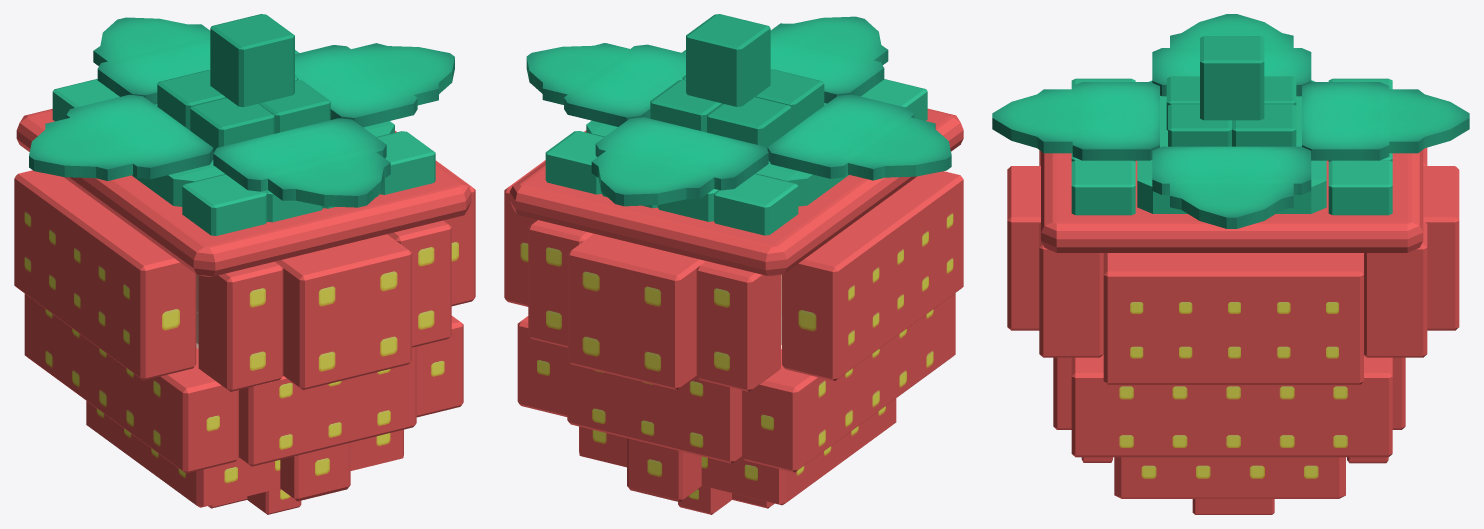
Rendered from level_5.fbx.
3 views of the same model, side by side, from view 1: azimuth 30°, elevation 25°; view 2: azimuth 150°, elevation 25°; view 3: azimuth 270°, elevation 25° (orthographic).
Parts seen in each view (by area): view 1: Cube.033, Cube.022, Cube.023, Cube.019, Cube.040, Cube.035, Cube.028, Cube.021, Cube.034, Cube.026, Cube.031, Cube.092 (+13 smaller); view 2: Cube.033, Cube.030, Cube.023, Cube.019, Cube.020, Cube.035, Cube.031, Cube.032, Cube.034, Cube.028, Cube.026, Cube.092 (+13 smaller); view 3: Cube.025, Cube.047, Cube.023, Cube.034, Cube.028, Cube.031, Cube.026, Cube.024, Cube.029, Cube.030, Cube.035, Cube.092 (+11 smaller).
Part boxes in pixels (box(x1,y1,x2,y2)): Cube.033: box(14, 170, 196, 380); Cube.022: box(275, 234, 411, 389); Cube.023: box(16, 109, 471, 276); Cube.019: box(24, 294, 238, 473); Cube.040: box(239, 346, 416, 466); Cube.035: box(29, 94, 213, 180); Cube.028: box(213, 118, 390, 207); Cube.021: box(198, 261, 283, 391); Cube.034: box(295, 43, 454, 127); Cube.026: box(86, 401, 403, 507); Cube.031: box(93, 17, 210, 104); Cube.092: box(210, 14, 294, 106); Cube.033: box(782, 171, 963, 381); Cube.030: box(568, 233, 705, 389); Cube.023: box(509, 108, 963, 276); Cube.019: box(742, 293, 955, 472); Cube.020: box(567, 347, 741, 463); Cube.035: box(767, 94, 951, 180); Cube.031: box(591, 117, 768, 206); Cube.032: box(696, 261, 780, 391); Cube.034: box(526, 43, 685, 126); Cube.028: box(770, 16, 888, 103); Cube.026: box(579, 398, 896, 505); Cube.092: box(686, 14, 770, 106); Cube.025: box(1103, 253, 1363, 384); Cube.047: box(1071, 354, 1392, 457); Cube.023: box(1041, 150, 1423, 252); Cube.034: box(1152, 146, 1311, 228); Cube.028: box(992, 82, 1159, 160); Cube.031: box(1302, 82, 1469, 160); Cube.026: box(1114, 457, 1345, 498); Cube.024: box(1039, 223, 1103, 357); Cube.029: box(1364, 221, 1427, 357); Cube.030: box(1423, 166, 1459, 330); Cube.035: box(1152, 14, 1311, 96); Cube.092: box(1200, 36, 1264, 120).
Bounding box in the file's own units: 14.99 × 15.3 × 14.86.
